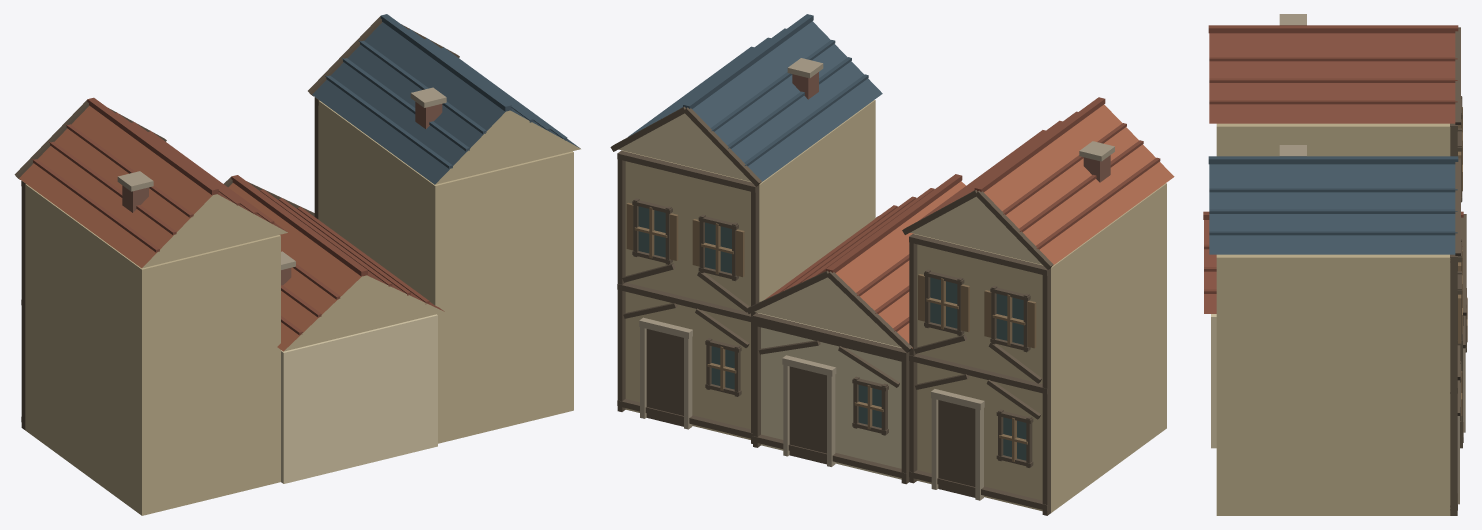
File: WalkTown_RowB.fbx
The picture shows the model from 3 angles, left to right: view 1: azimuth 30°, elevation 25°; view 2: azimuth 150°, elevation 25°; view 3: azimuth 270°, elevation 25°; orthographic projection.
Parts seen in each view (by area): view 1: WalkTown_RowB; view 2: WalkTown_RowB; view 3: WalkTown_RowB.
Part boxes in pixels (x1,y1,x2,y2): WalkTown_RowB: (14, 14, 580, 515); WalkTown_RowB: (610, 14, 1174, 515); WalkTown_RowB: (1203, 14, 1467, 515).
Size of the model in its own units: 11.48 by 8.03 by 5.94.
